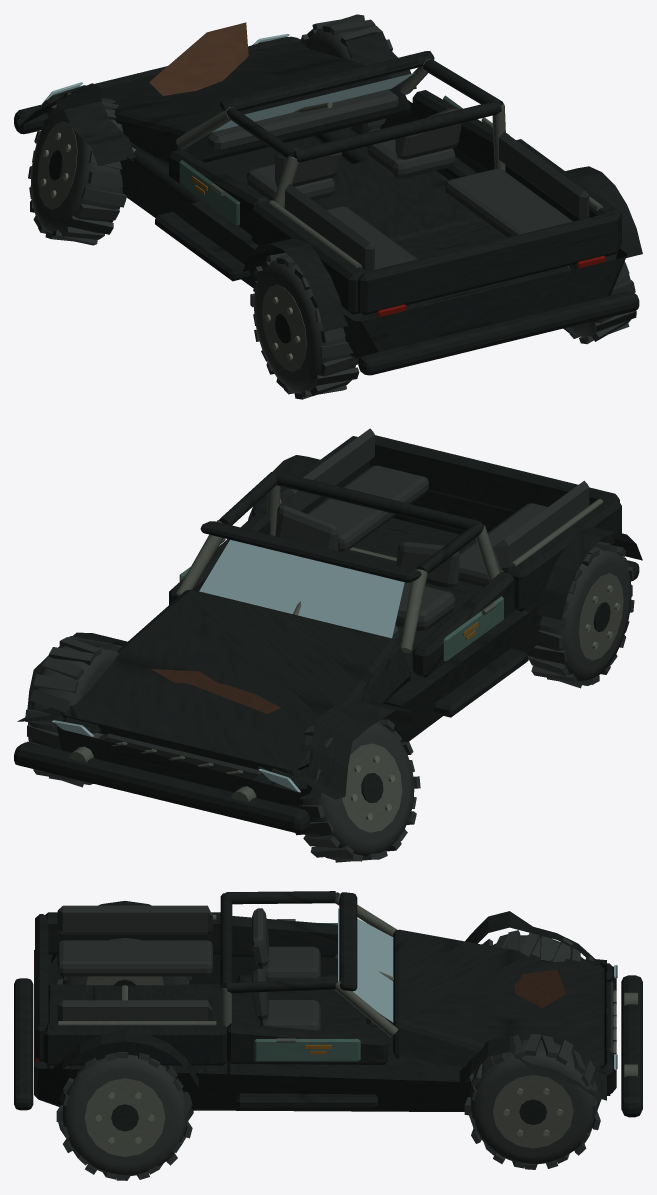
Rendered from burnt-wreck.glb.
3 renders of one model, top to bottom at view 1: azimuth 30°, elevation 25°; view 2: azimuth 150°, elevation 25°; view 3: azimuth 270°, elevation 25°, orthographic. The views are drawn at different scales.
Visible parts, largest first — view 1: Chassis, Wheel_RL, Wheel_FL, Wheel_FR, Wheel_RR; view 2: Chassis, Wheel_FL, Wheel_RL, Wheel_FR; view 3: Chassis, Wheel_FR, Wheel_RR, Wheel_FL, Wheel_RL.
Part boxes in pixels (<box>): Chassis: <box>14,22,642,375</box>; Wheel_RL: <box>250,252,359,399</box>; Wheel_FL: <box>28,92,133,245</box>; Wheel_FR: <box>300,14,405,134</box>; Wheel_RR: <box>555,208,636,344</box>; Chassis: <box>14,428,642,833</box>; Wheel_FL: <box>285,719,420,862</box>; Wheel_RL: <box>523,541,634,688</box>; Wheel_FR: <box>25,636,122,787</box>; Chassis: <box>14,891,642,1117</box>; Wheel_FR: <box>464,1034,601,1169</box>; Wheel_RR: <box>56,1052,193,1180</box>; Wheel_FL: <box>482,930,593,962</box>; Wheel_RL: <box>57,938,192,985</box>.
Size of the model in its own units: 2.81 by 1.56 by 4.9.
3 materials, 1 textured.
